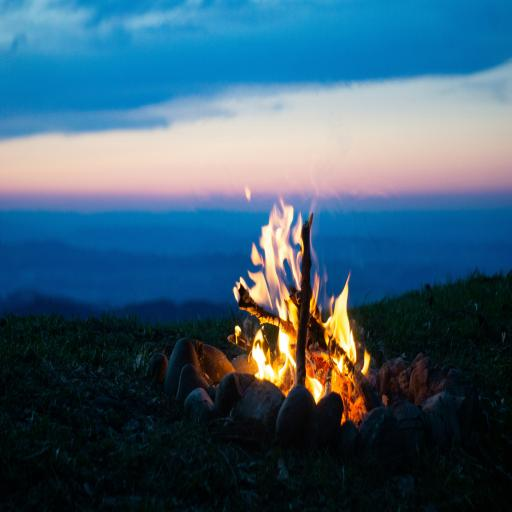campfire: (155, 217, 437, 488)
